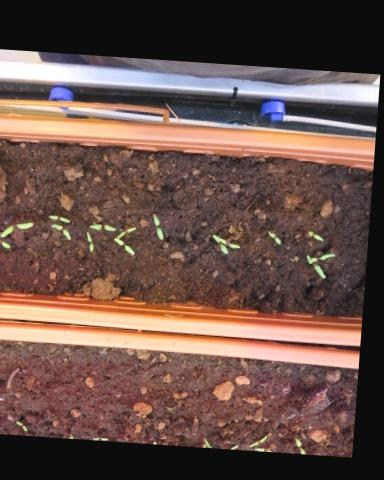crop: (1, 219, 37, 241), (151, 211, 169, 239), (85, 228, 99, 254), (90, 220, 119, 232), (269, 226, 286, 244), (48, 213, 75, 224), (308, 225, 327, 237)
